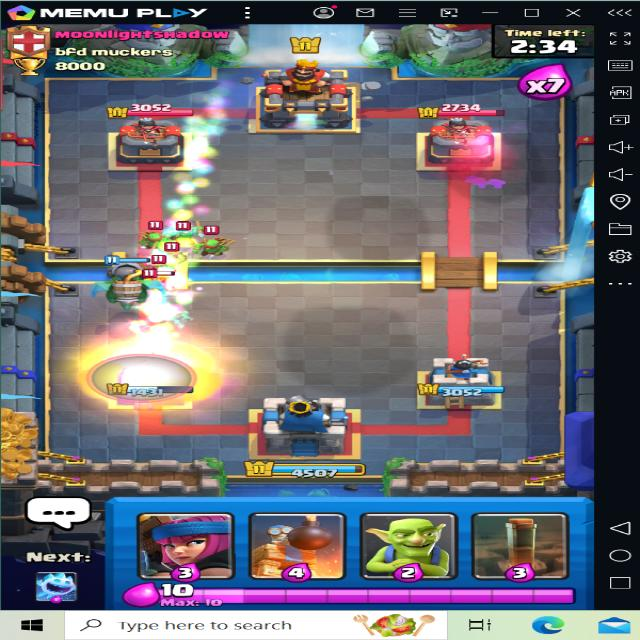Speargoblin: (139, 219, 171, 246), (198, 231, 227, 257), (177, 222, 208, 243)
